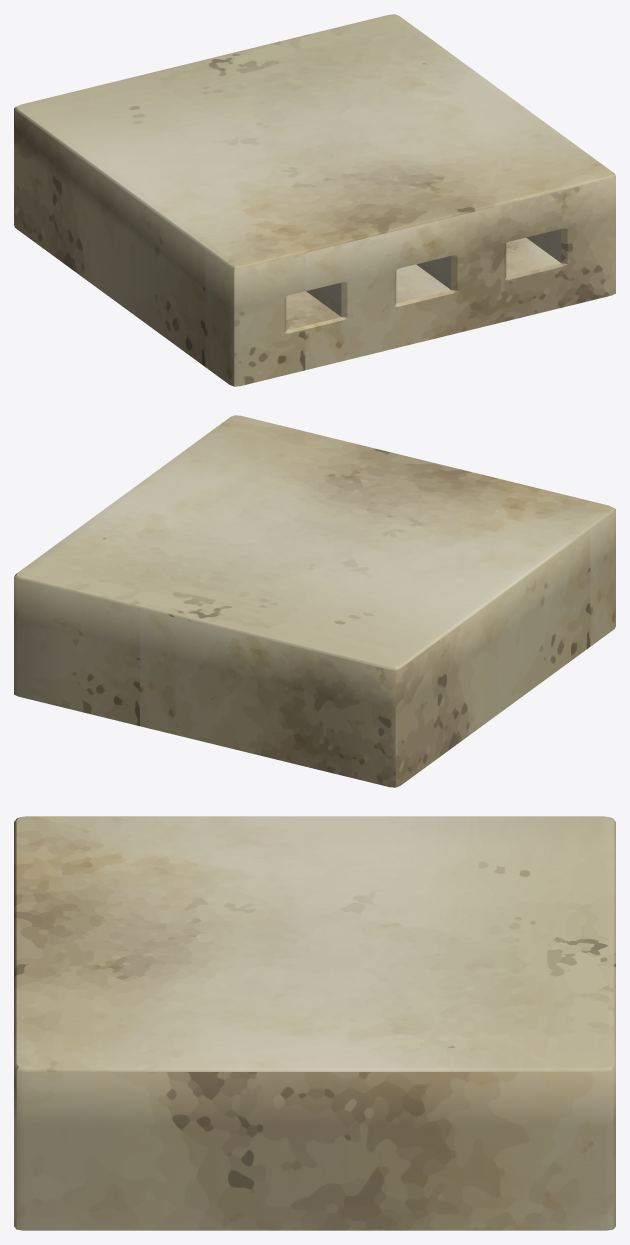
The model's file is Building_8.FBX.
The picture shows the model from 3 angles, top to bottom: view 1: azimuth 30°, elevation 25°; view 2: azimuth 150°, elevation 25°; view 3: azimuth 270°, elevation 25°; orthographic projection. The views are drawn at different scales.
Parts seen in each view (by area): view 1: Box042; view 2: Box042; view 3: Box042.
Part boxes in pixels (box(x1,y1,x2,y2)): Box042: box(14, 14, 615, 386); Box042: box(14, 415, 615, 787); Box042: box(14, 816, 615, 1230).
Bounding box in the file's own units: 276 × 82.17 × 276.
